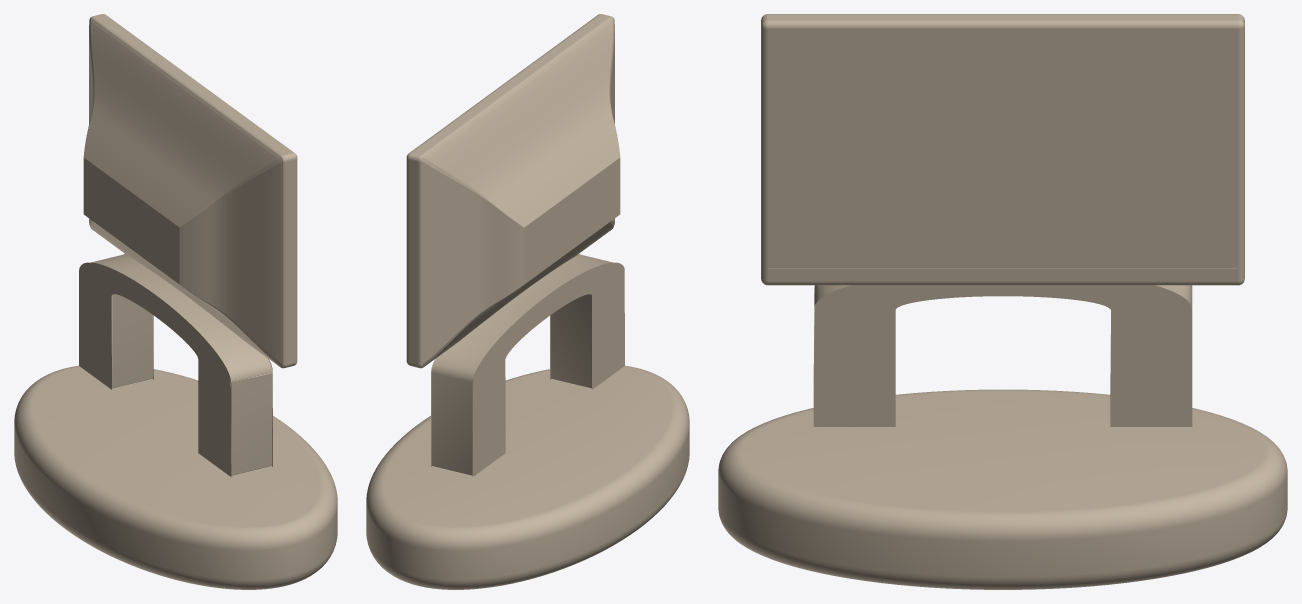
File: 3dcodebench_Monitor_seed0_L3_Q2__kimi_k3.glb
3 renders of one model, left to right at view 1: azimuth 30°, elevation 25°; view 2: azimuth 150°, elevation 25°; view 3: azimuth 270°, elevation 25°, orthographic. The views are drawn at different scales.
Visible parts, largest first — view 1: object; view 2: object; view 3: object.
Part boxes in pixels (x1,y1,x2,y2): object: (14,14,337,589); object: (366,14,689,589); object: (718,14,1287,589).
Bounding box in the file's own units: 0.41 × 0.7169 × 0.71.
